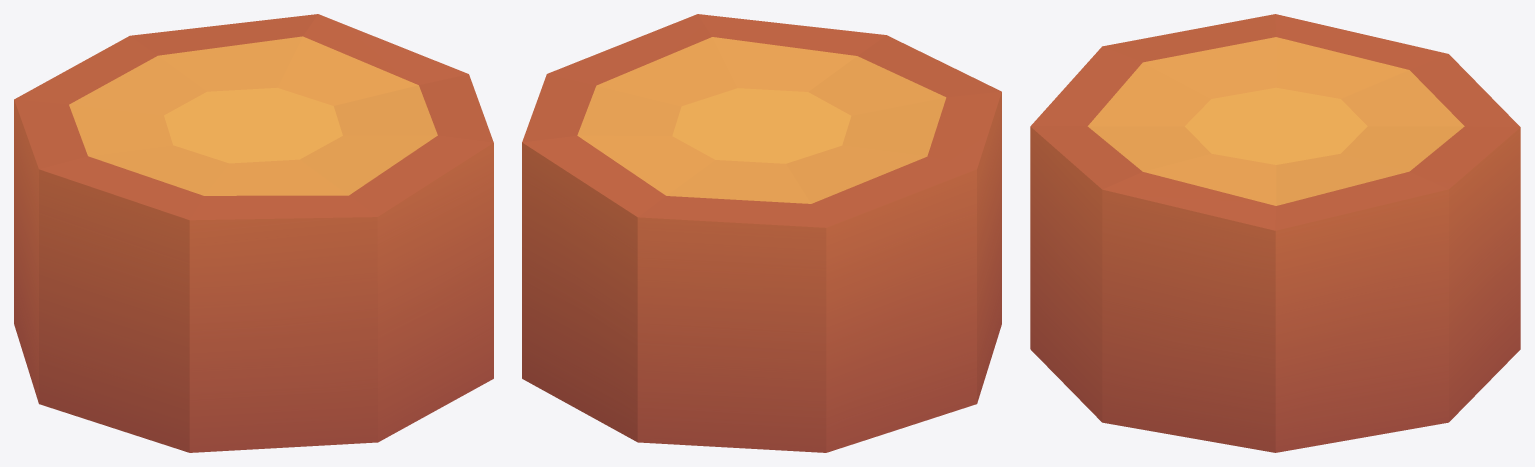
The model's file is Log1.glb.
The picture shows the model from 3 angles, left to right: view 1: azimuth 30°, elevation 25°; view 2: azimuth 150°, elevation 25°; view 3: azimuth 270°, elevation 25°; orthographic projection.
Visible parts, largest first — view 1: Log1; view 2: Log1; view 3: Log1.
Part boxes in pixels (bbox=[...]): Log1: bbox=[14, 14, 493, 452]; Log1: bbox=[522, 14, 1001, 452]; Log1: bbox=[1030, 14, 1520, 452].
Bounding box in the file's own units: 0.6321 × 0.3329 × 0.6322.
1 material, 1 textured.
